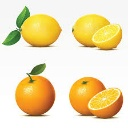orange: (14, 69, 57, 117), (69, 76, 107, 116)
